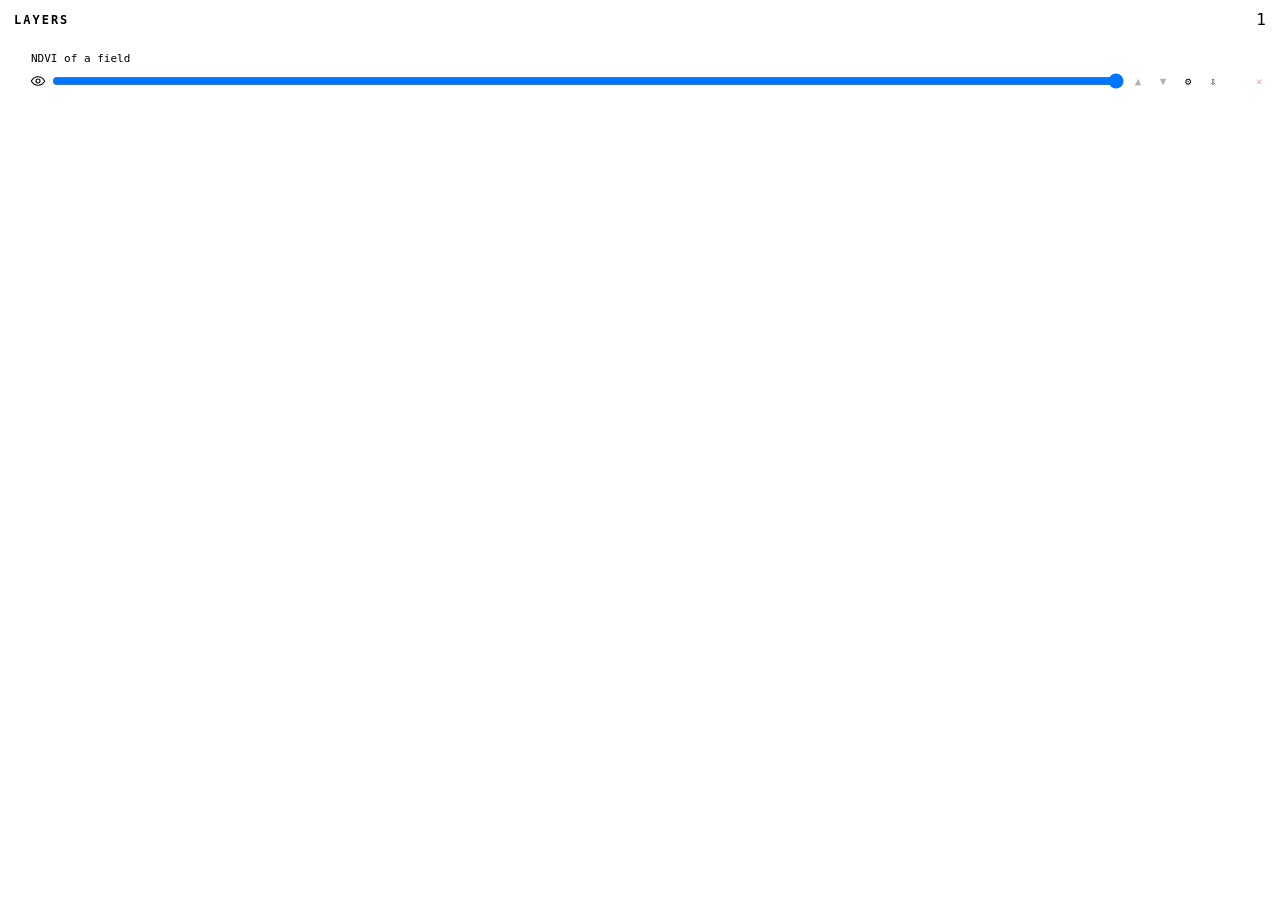
Test: the panel from a result › has the same area choice as the panel of a scene: "Whole scene" is the result, "AOI only" an AOI inside it
This screenshot has width=1280, height=900.
Click the button "⚙".
click(1188, 81)  # box [1177,72,1199,90]
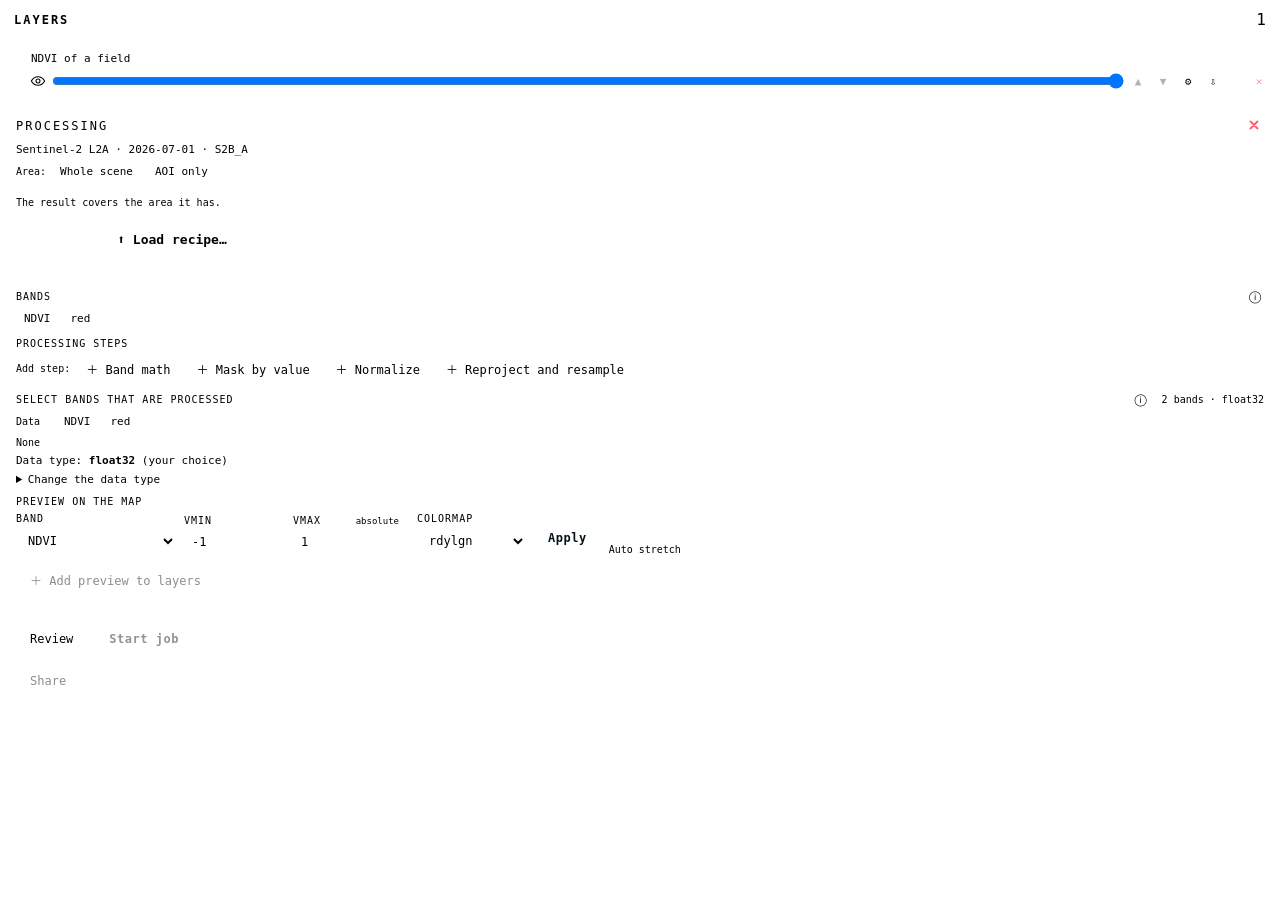
Expected: the button "AOI only" is enabled, [147,162,216,181]
Expected: the element named "Selection" shows "Load recipe", [117,232,227,247]
